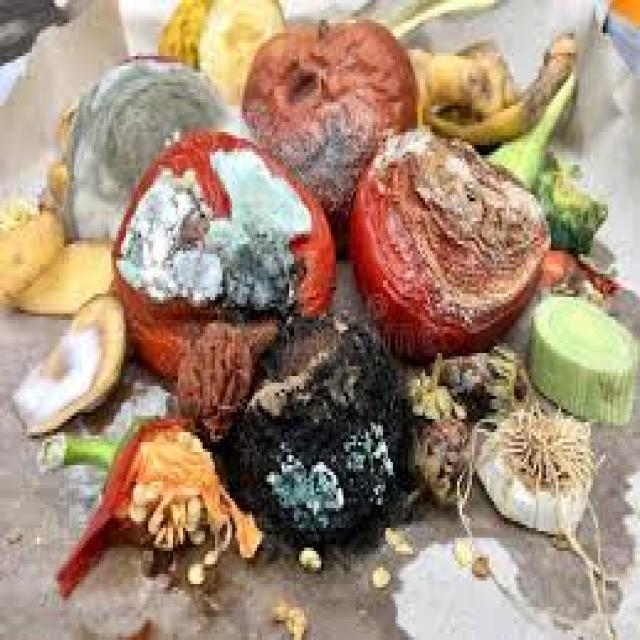food_waste: (7, 0, 633, 554)
